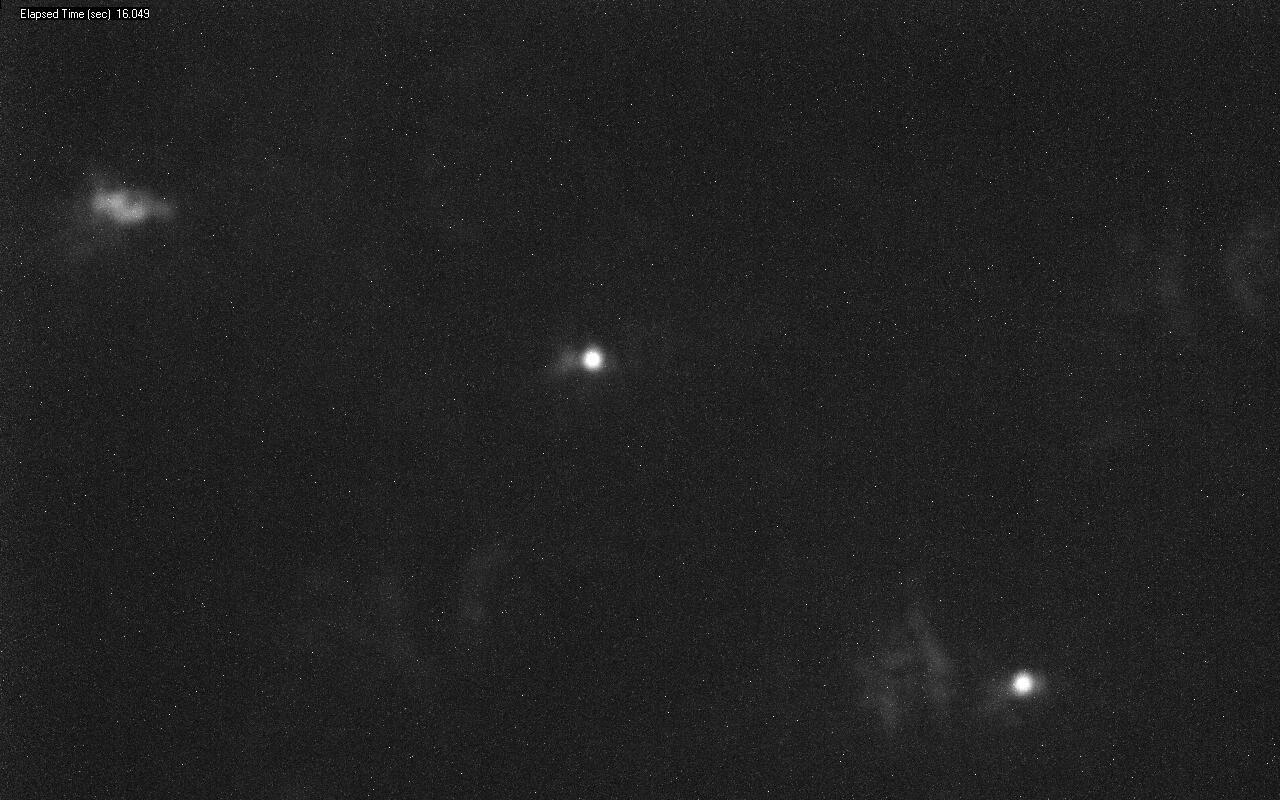Bead: (581, 348, 603, 371), (1012, 673, 1033, 694)
